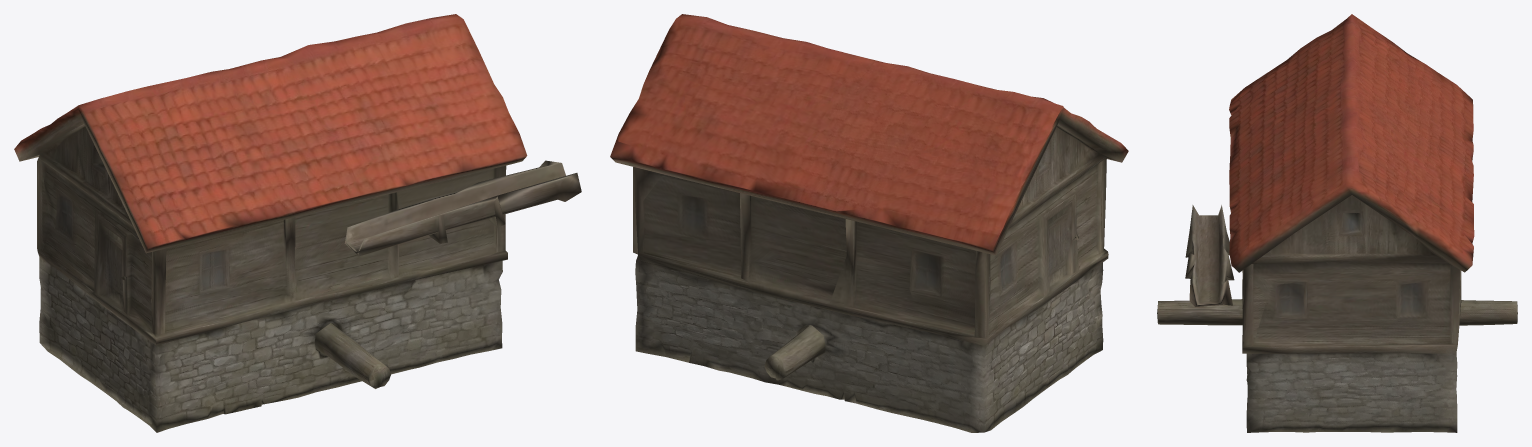
Rendered from degirmen-ev-ham.glb.
3 views of the same model, side by side, from view 1: azimuth 30°, elevation 25°; view 2: azimuth 150°, elevation 25°; view 3: azimuth 270°, elevation 25° (orthographic). The views are drawn at different scales.
Visible parts, largest first — view 1: tripo_node_6884db1a-4f3a-4ac6-990f-394720377ef6; view 2: tripo_node_6884db1a-4f3a-4ac6-990f-394720377ef6; view 3: tripo_node_6884db1a-4f3a-4ac6-990f-394720377ef6.
Boxes of the visible parts, x1,y1,x2,y2 form: tripo_node_6884db1a-4f3a-4ac6-990f-394720377ef6: (14, 14, 581, 432); tripo_node_6884db1a-4f3a-4ac6-990f-394720377ef6: (610, 14, 1128, 432); tripo_node_6884db1a-4f3a-4ac6-990f-394720377ef6: (1157, 14, 1517, 432).
Size of the model in its own units: 0.9777 by 0.6554 by 0.8198.
1 material, 1 textured.
